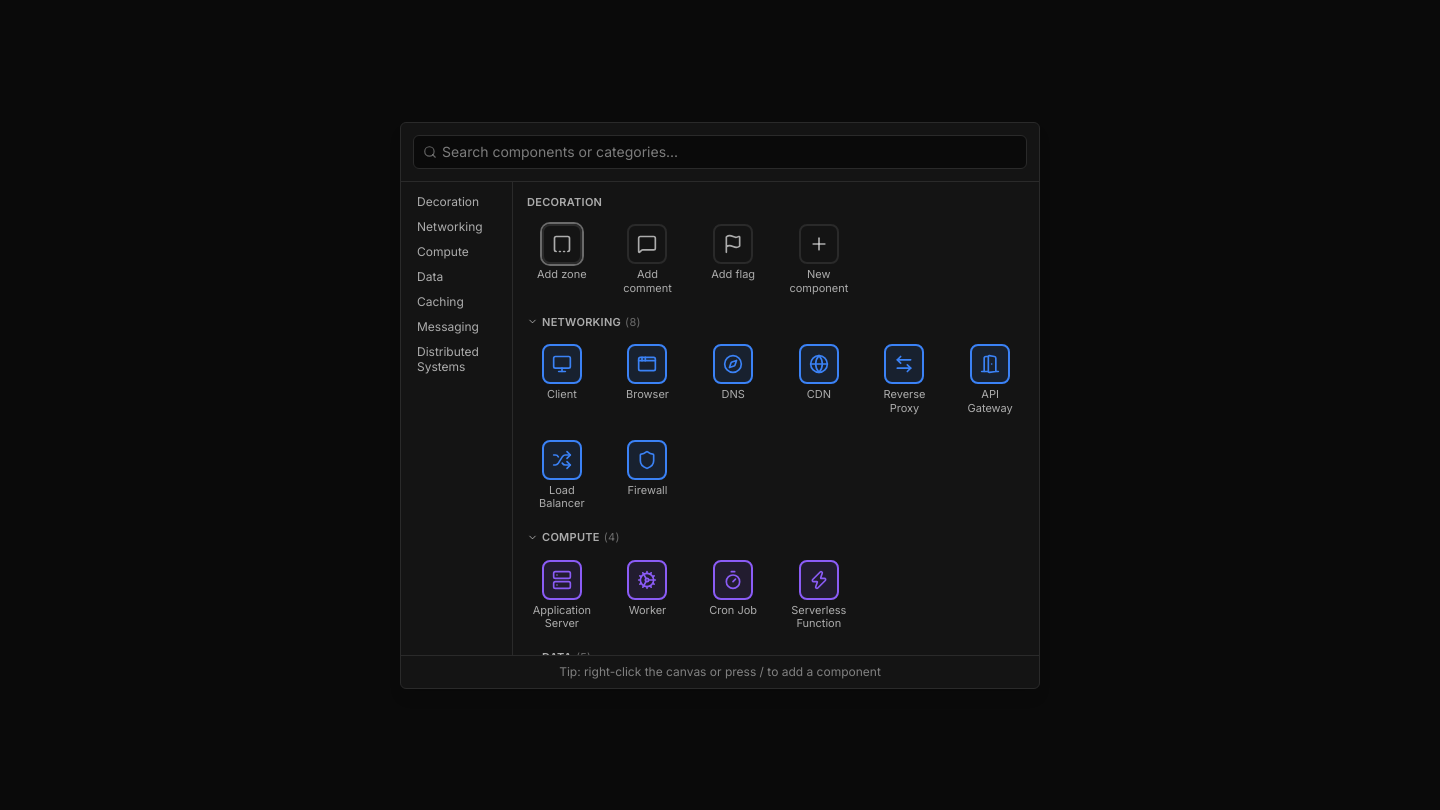
Test case: ComponentPicker › clicking 'New component' opens the create-component modal
Click the option "New component". click: (819, 259)
box: [789,224,848,295]
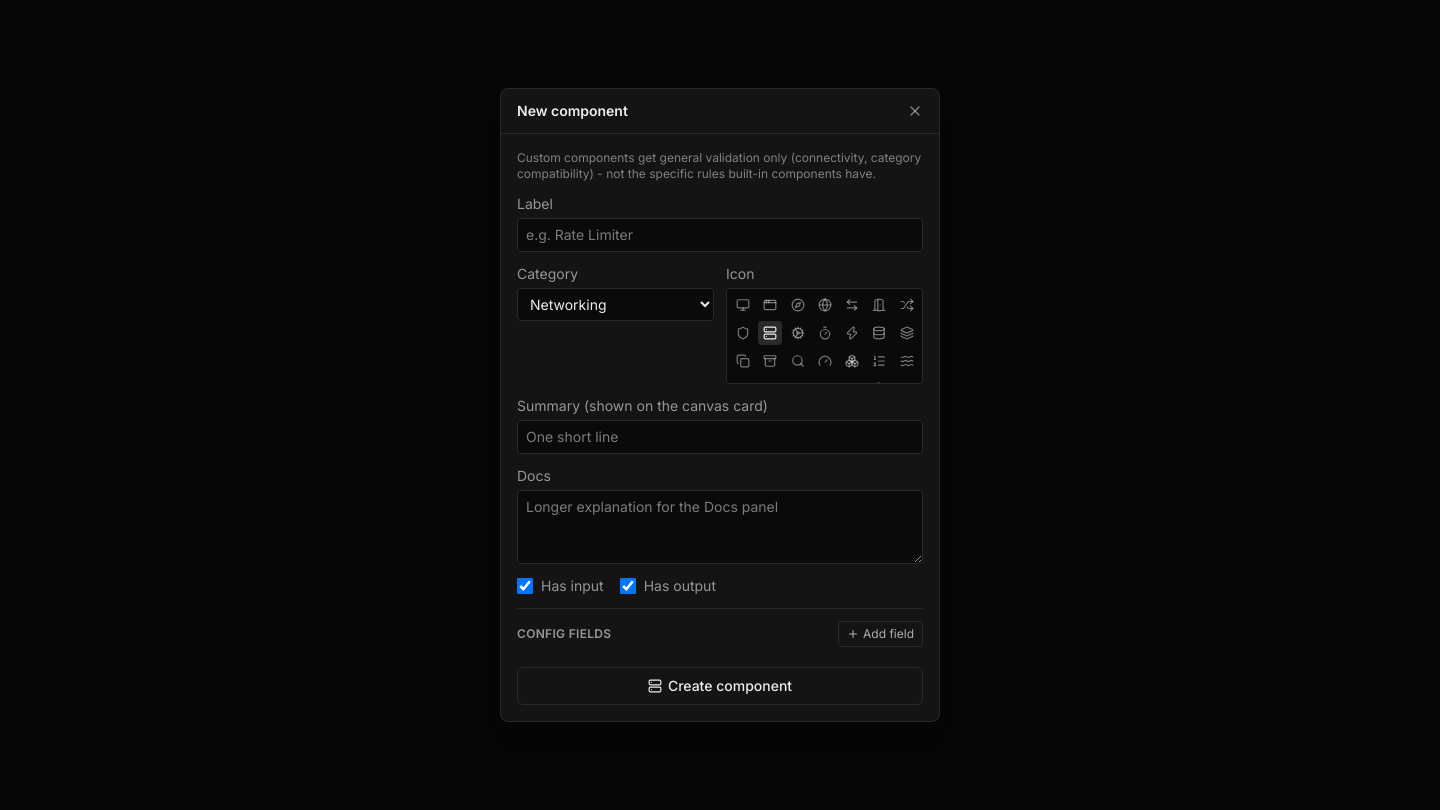
Expected: the heading "New component" is shown, [517,101,628,121]
Result: the field with placeholder "e.g. Rate Limiter" is shown at [517,218,923,252]
